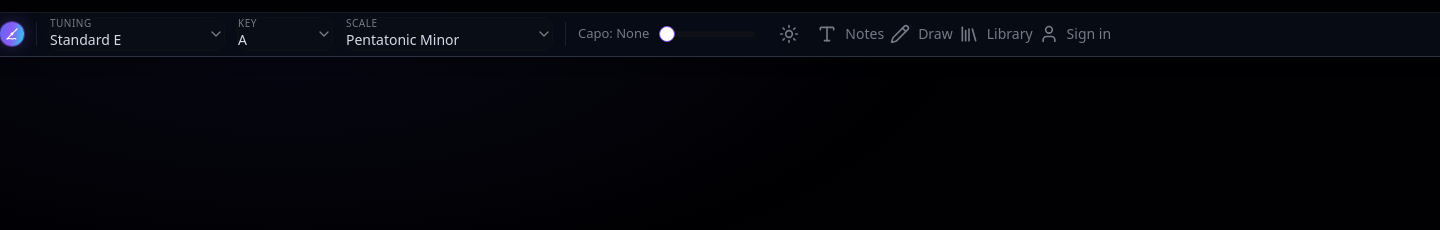
ControlBar — custom tunings (premium) › non-premium: no "Create Custom Tuning" item in the tuning select
Click the dropdown labelled "Tuning" at (137, 34), box 49,17 -> 225,51
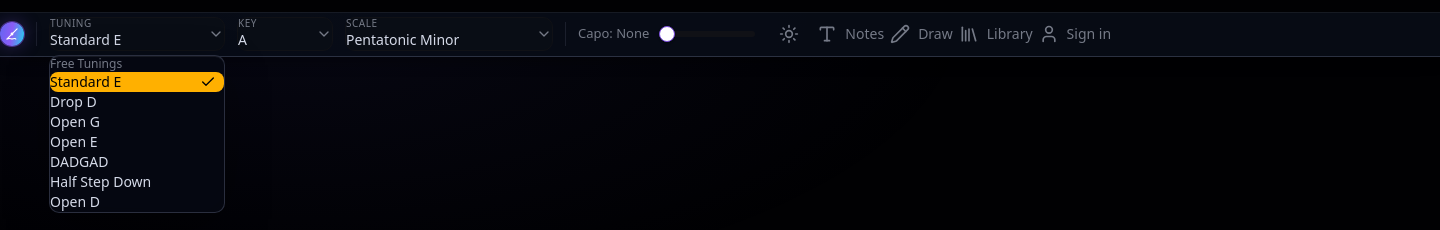
Expected: the option "Standard E" is shown, 50,72 -> 224,92
